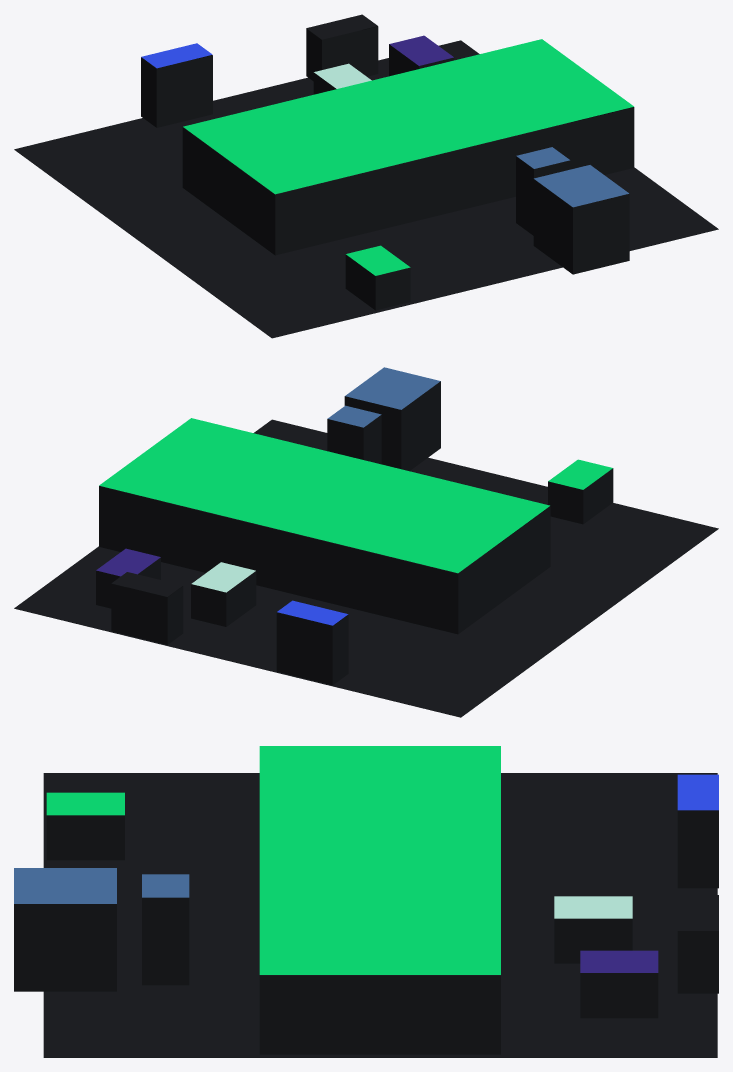
File: Piso5_AgoraMap.glb
3 renders of one model, top to bottom at view 1: azimuth 30°, elevation 25°; view 2: azimuth 150°, elevation 25°; view 3: azimuth 270°, elevation 25°, orthographic. The views are drawn at different scales.
Visible parts, largest first — view 1: Cube.089, Cube.085, Cube.086, Cube.073, Cube.082, Cube.091, Cube.072, Cube.080, Cube.083, Cube.071, Cube.088, Cube.081 (+4 smaller); view 2: Cube.089, Cube.085, Cube.086, Cube.082, Cube.073, Cube.091, Cube.084, Cube.072, Cube.080, Cube.083, Cube.087, Cube.071 (+5 smaller); view 3: Cube.089, Cube.085, Cube.086, Cube.073, Cube.083, Cube.080, Cube.072, Cube.090, Cube.082, Cube.084, Cube.091, Cube.071 (+5 smaller).
Boxes of the visible parts, left/top/right/bottom form: Cube.089: left=14, top=40, right=718, bottom=338; Cube.085: left=183, top=39, right=633, bottom=194; Cube.086: left=182, top=107, right=634, bottom=255; Cube.073: left=533, top=179, right=629, bottom=274; Cube.082: left=141, top=55, right=212, bottom=127; Cube.091: left=306, top=26, right=378, bottom=81; Cube.072: left=345, top=254, right=410, bottom=310; Cube.080: left=534, top=165, right=628, bottom=207; Cube.083: left=516, top=156, right=570, bottom=235; Cube.071: left=346, top=245, right=410, bottom=275; Cube.088: left=389, top=35, right=453, bottom=65; Cube.081: left=141, top=43, right=212, bottom=68; Cube.089: left=14, top=419, right=718, bottom=717; Cube.085: left=99, top=418, right=549, bottom=573; Cube.086: left=99, top=486, right=550, bottom=634; Cube.082: left=276, top=612, right=348, bottom=685; Cube.073: left=344, top=381, right=440, bottom=471; Cube.091: left=111, top=583, right=183, bottom=644; Cube.084: left=191, top=571, right=256, bottom=626; Cube.072: left=548, top=468, right=613, bottom=524; Cube.080: left=345, top=367, right=440, bottom=409; Cube.083: left=327, top=415, right=381, bottom=464; Cube.087: left=191, top=562, right=255, bottom=592; Cube.071: left=548, top=459, right=612, bottom=489; Cube.089: left=43, top=773, right=717, bottom=1057; Cube.085: left=259, top=746, right=500, bottom=974; Cube.086: left=259, top=975, right=500, bottom=1054; Cube.073: left=14, top=904, right=116, bottom=991; Cube.083: left=142, top=897, right=189, bottom=985; Cube.080: left=14, top=868, right=116, bottom=903; Cube.072: left=46, top=815, right=124, bottom=860; Cube.090: left=580, top=973, right=658, bottom=1018; Cube.082: left=677, top=810, right=718, bottom=888; Cube.084: left=554, top=918, right=632, bottom=963; Cube.091: left=677, top=931, right=718, bottom=993; Cube.071: left=46, top=792, right=124, bottom=815.
Bounding box in the file's own units: 2 × 0.2939 × 2.09.
